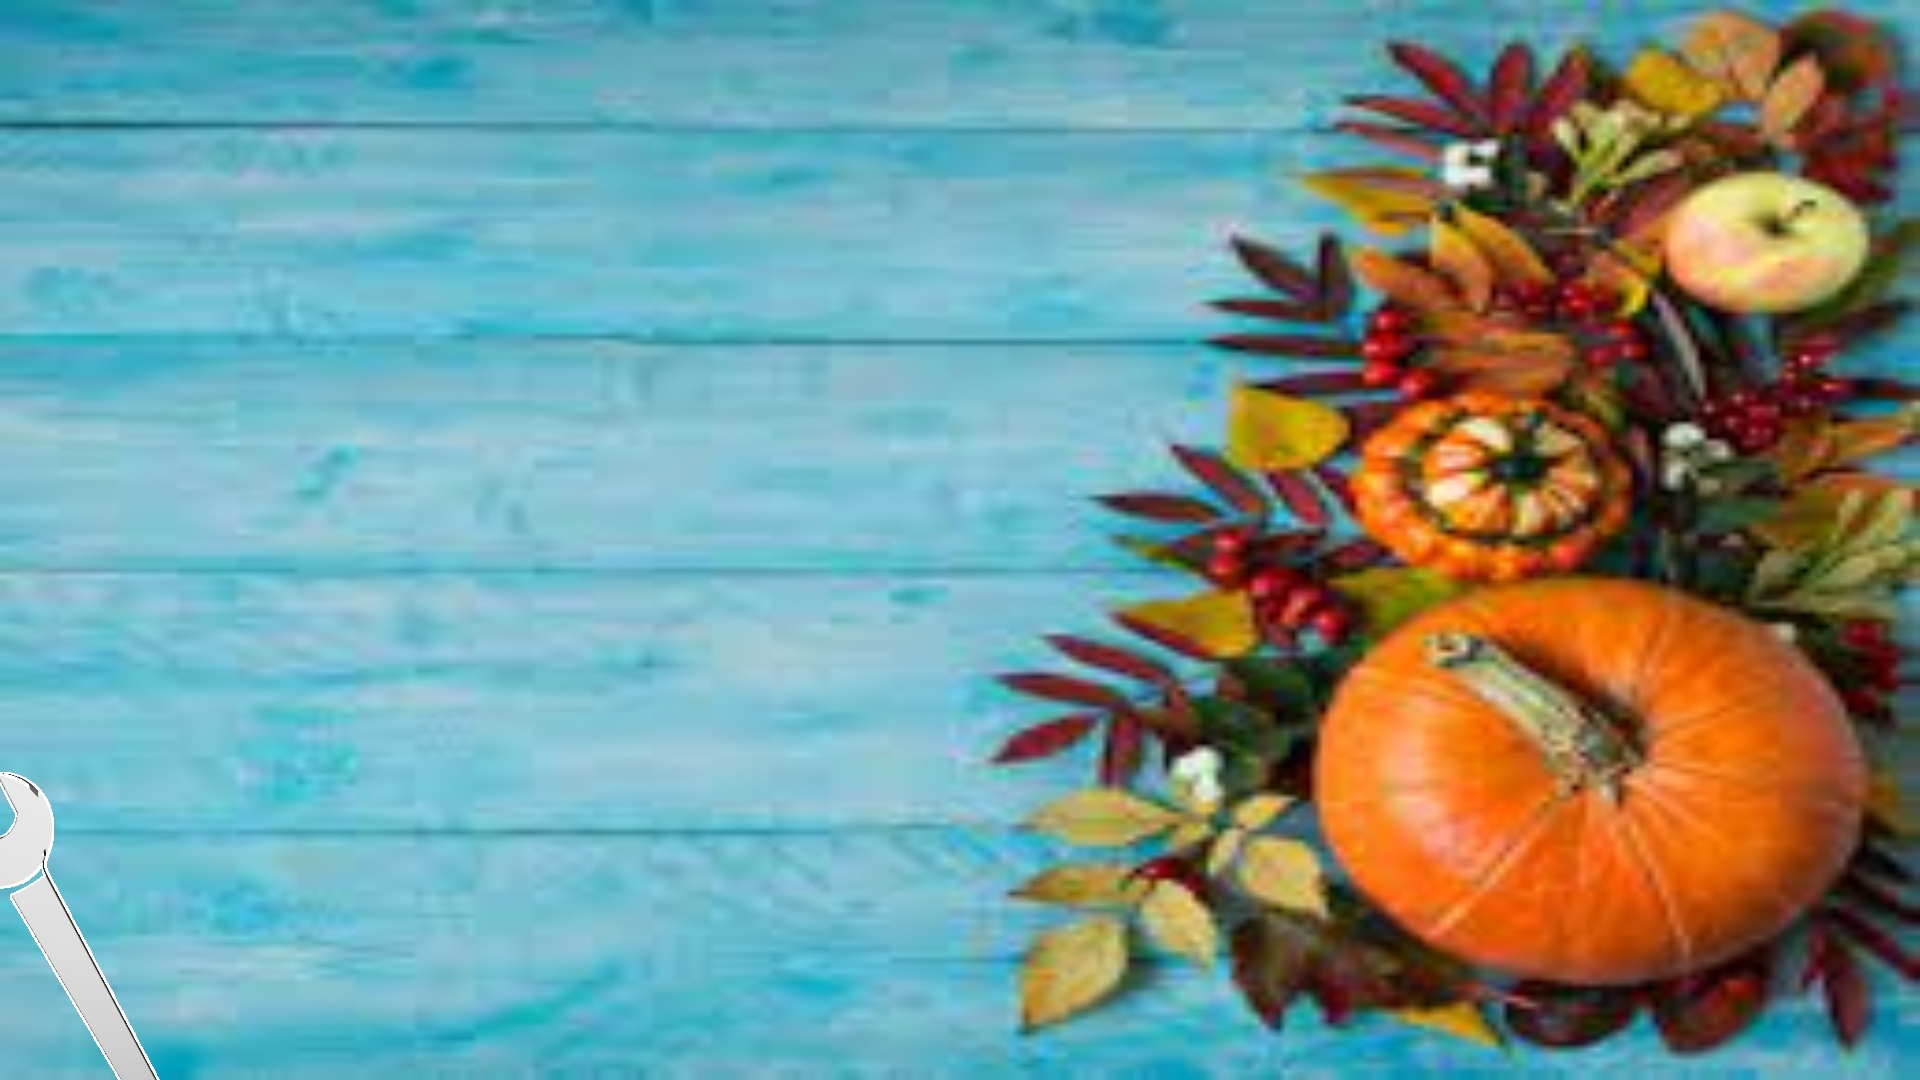Mixed Key: (0, 771, 160, 1079)
